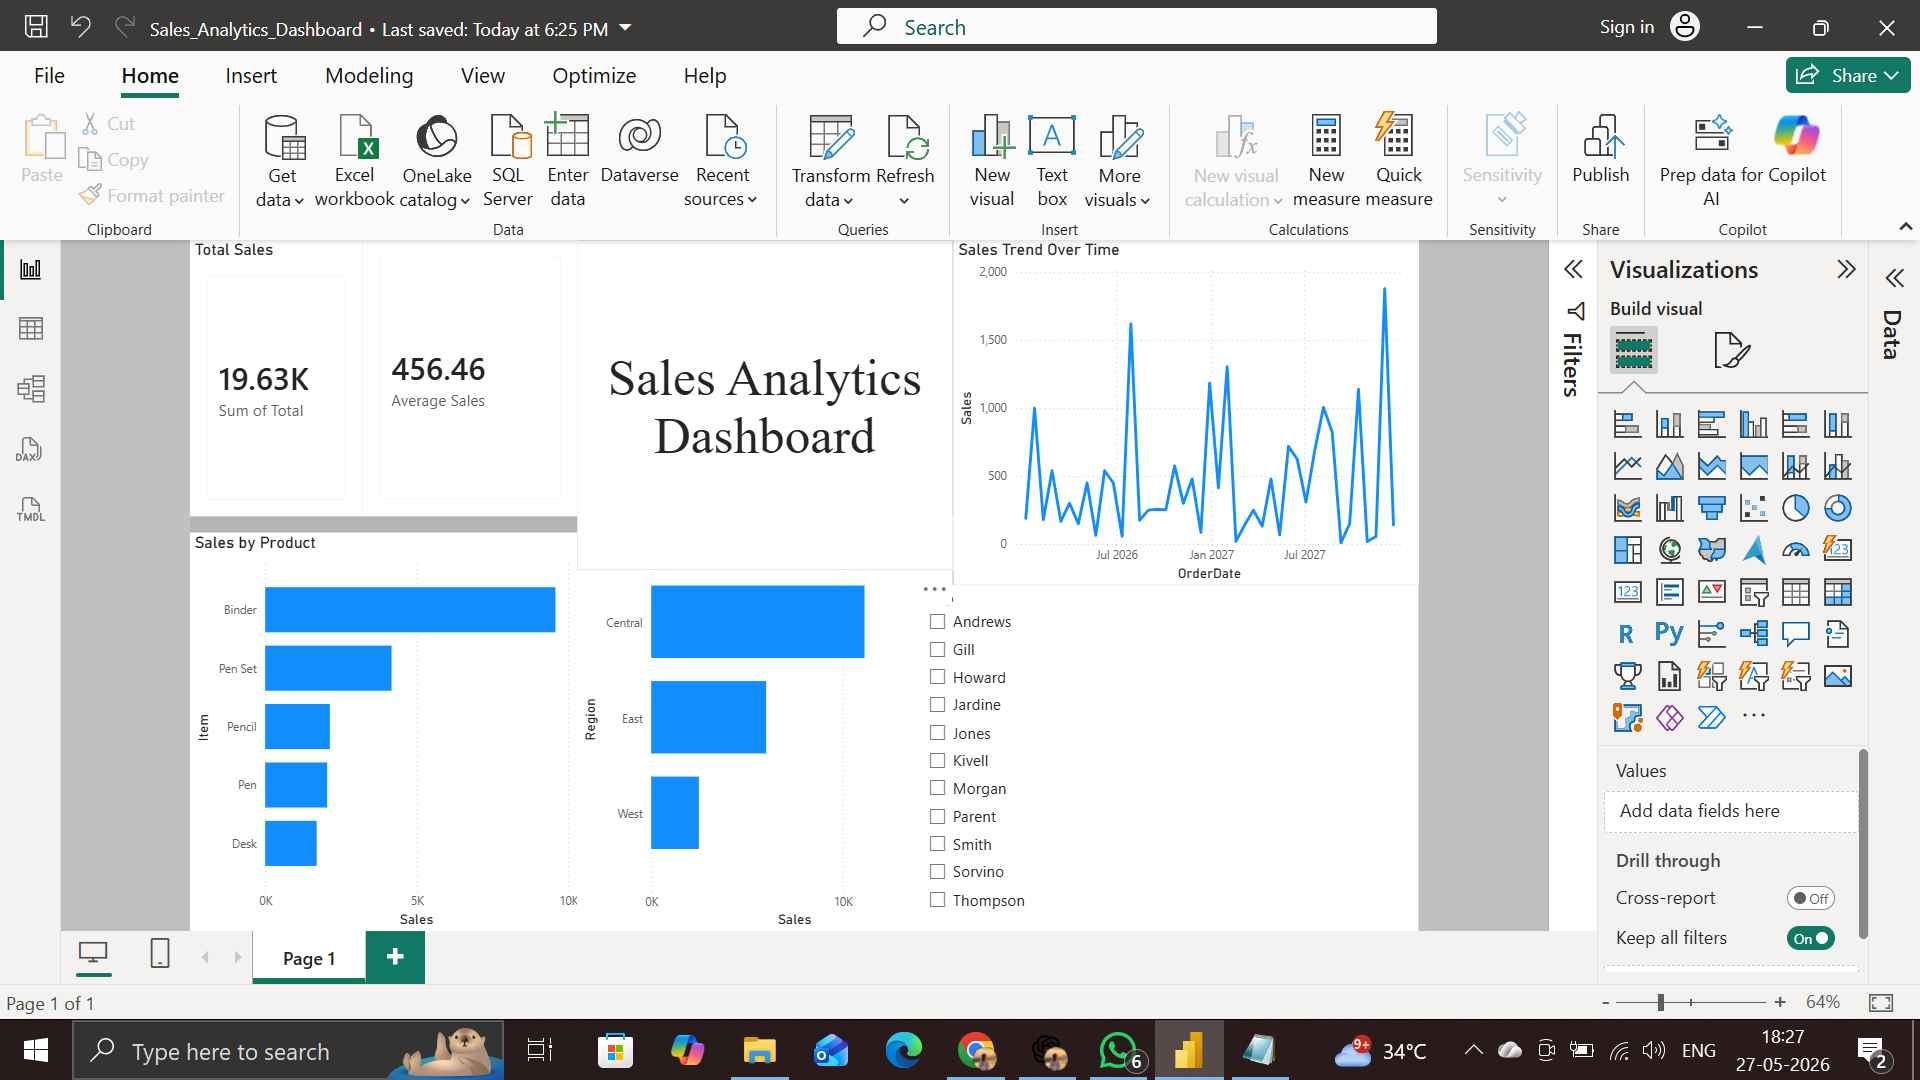

This screenshot's page, from the dashboard's own definition file:
{"tool":"powerbi","page":{"name":"Page 1","canvas":[1280,720],"ordinal":0},"visuals":[{"type":"clusteredBarChart","title":"Sales by Product","fields":{"Category":["SalesOrders.Item"],"Y":["Sum(SalesOrders.Total)"]},"box":[0,305.4,408.8,415.1],"z":0},{"type":"cardVisual","title":"Total Sales","fields":{"Data":["Sum(SalesOrders.Total)"]},"box":[0,0,179.7,287.9],"z":1000},{"type":"clusteredBarChart","title":"Sales by Region","fields":{"Category":["SalesOrders.Region"],"Y":["Sum(SalesOrders.Total)"]},"box":[404,287.9,391.3,432.6],"z":2000},{"type":"slicer","fields":{"Values":["SalesOrders.Rep"]},"box":[758.7,359.5,521.7,361.1],"z":3000},{"type":"lineChart","title":"Sales Trend Over Time","fields":{"Y":["Sum(SalesOrders.Total)"],"Category":["SalesOrders.OrderDate"]},"box":[795.3,0,485.1,359.5],"z":4000},{"type":"textbox","box":[404,0,391.3,343.6],"z":5000},{"type":"cardVisual","fields":{"Data":["SalesOrders.Average Sales"]},"box":[179.7,0,224.3,287.9],"z":6000}]}

Visuals, with their boxes on the page's 1280x720 design canvas (x1, y1, x2, y2). These are canvas units, not pixel positions in the 1920x1080 screenshot, which may show the page scaled, cropped or inside an application window:
"Sales by Product" clusteredBarChart: detection(0, 305, 409, 720)
"Total Sales" cardVisual: detection(0, 0, 180, 288)
"Sales by Region" clusteredBarChart: detection(404, 288, 795, 720)
slicer - SalesOrders.Rep: detection(759, 360, 1280, 721)
"Sales Trend Over Time" lineChart: detection(795, 0, 1280, 360)
textbox: detection(404, 0, 795, 344)
cardVisual - SalesOrders.Average Sales: detection(180, 0, 404, 288)
